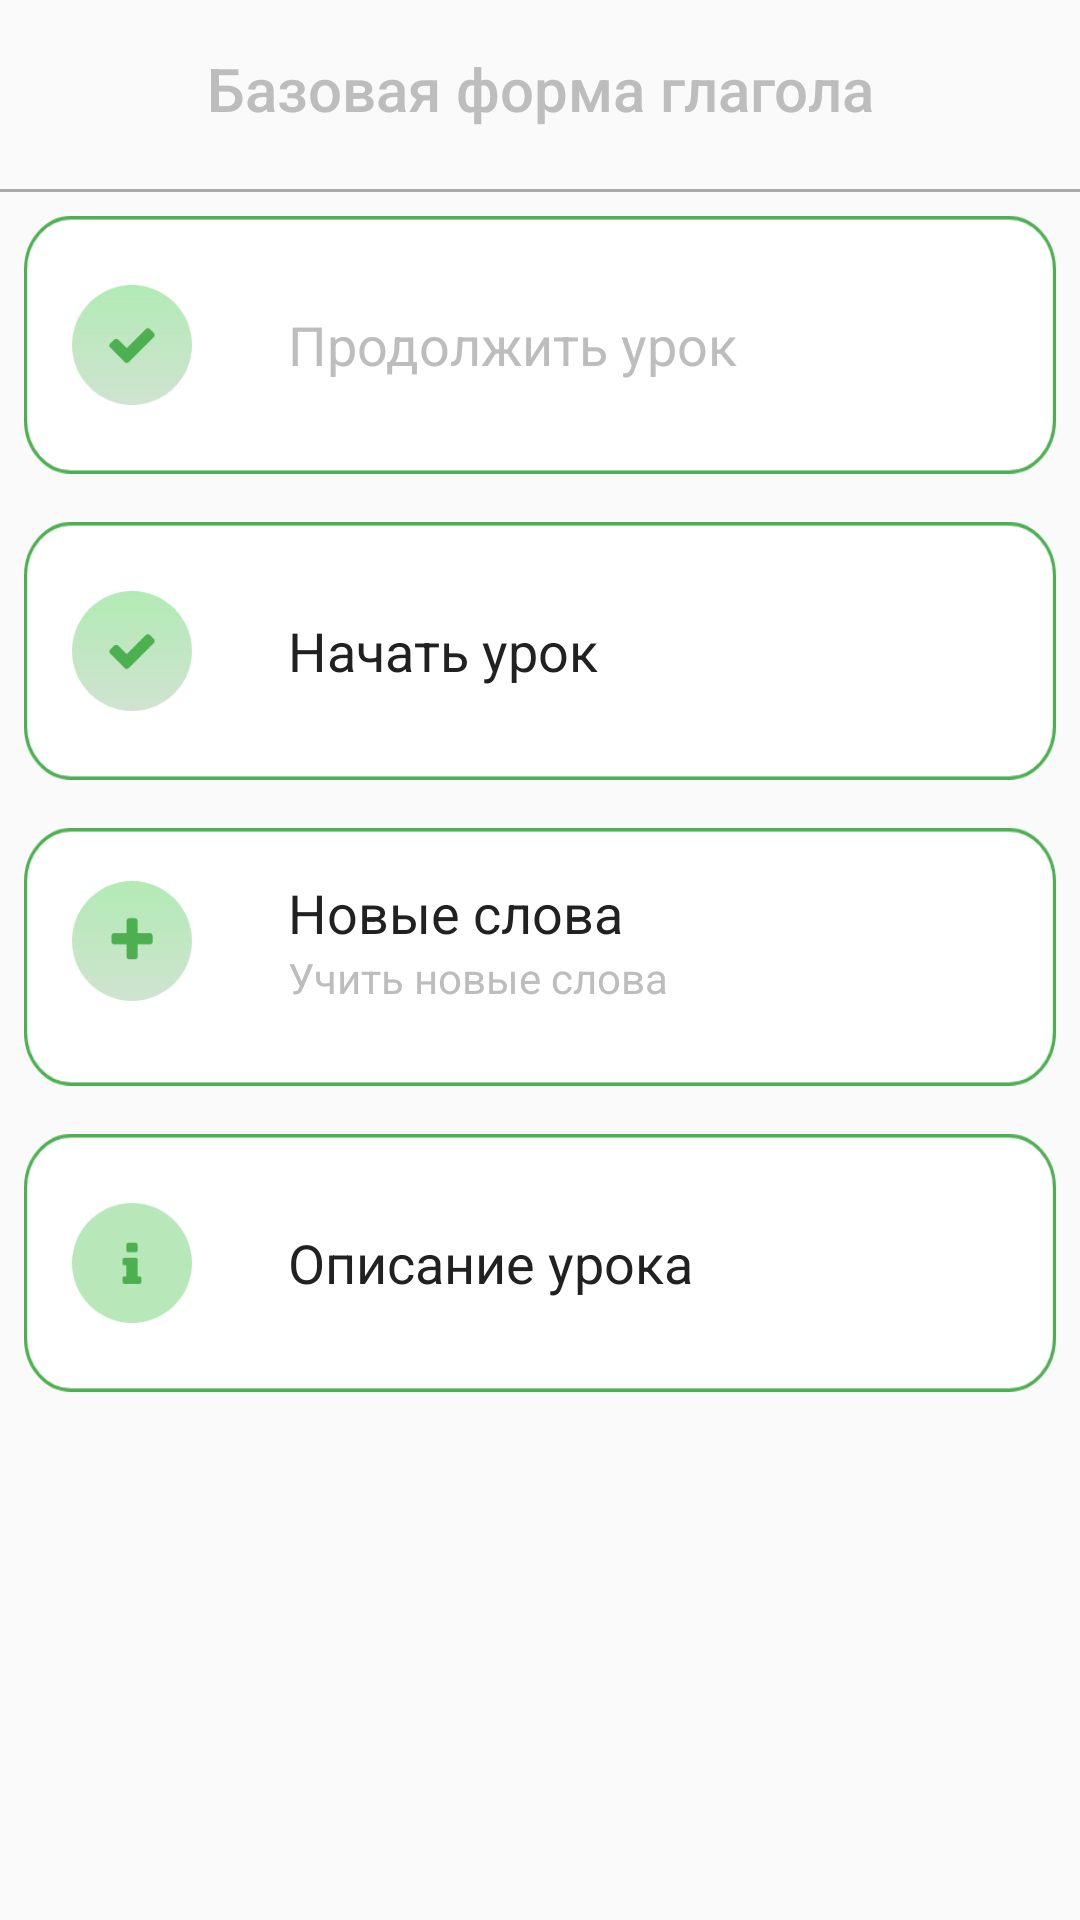

Screen size 1080px x 1920px. Icon name, then its center in pixels as (x=x, y=y):
item check: (x=132, y=345), (x=132, y=651)
item info: (x=132, y=1263)
item plus: (x=132, y=941)
